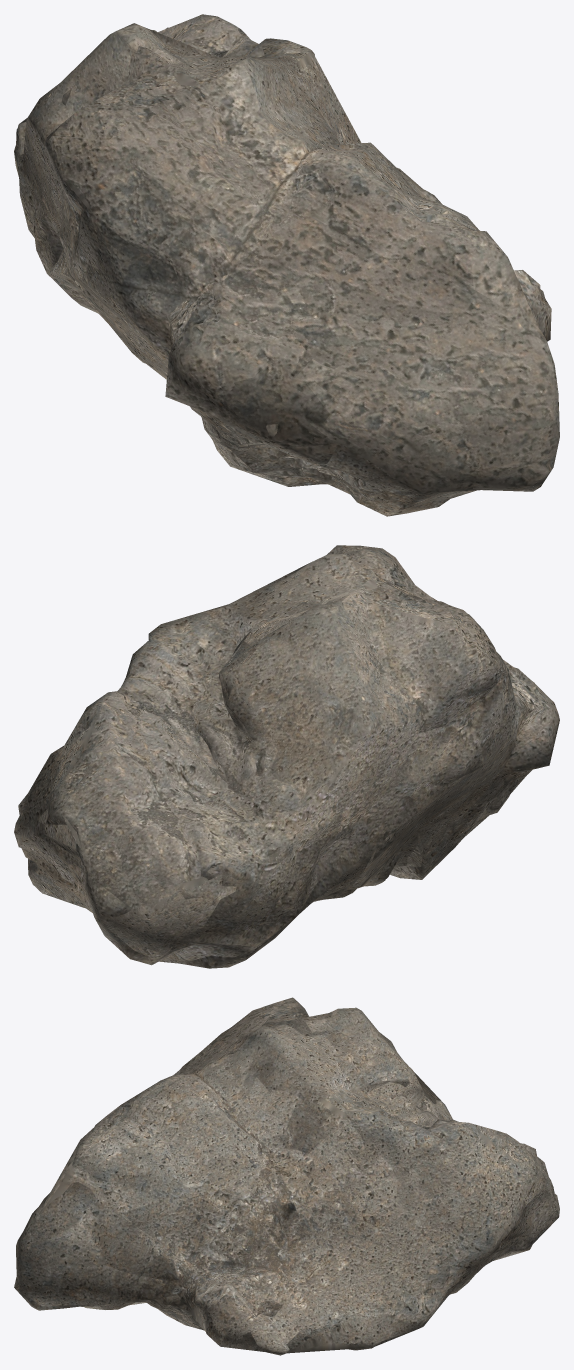
File: icelandic_porous_rocks_skxqf.glb
3 renders of one model, top to bottom at view 1: azimuth 30°, elevation 25°; view 2: azimuth 150°, elevation 25°; view 3: azimuth 270°, elevation 25°, orthographic. The views are drawn at different scales.
Visible parts, largest first — view 1: skxqf_LOD0_TIER2_000, skxqf_LOD0_TIER2_000_MatID_1_0_far; view 2: skxqf_LOD0_TIER2_000, skxqf_LOD0_TIER2_000_MatID_1_0_far; view 3: skxqf_LOD0_TIER2_000, skxqf_LOD0_TIER2_000_MatID_1_0_far.
Boxes of the visible parts, x1,y1,x2,y2 form: skxqf_LOD0_TIER2_000: (14,14,559,516); skxqf_LOD0_TIER2_000_MatID_1_0_far: (16,14,558,516); skxqf_LOD0_TIER2_000: (14,545,559,968); skxqf_LOD0_TIER2_000_MatID_1_0_far: (14,546,552,964); skxqf_LOD0_TIER2_000: (14,998,559,1355); skxqf_LOD0_TIER2_000_MatID_1_0_far: (20,997,557,1353).
Size of the model in its own units: 0.2684 by 0.2047 by 0.3773.
1 material, 1 textured.
